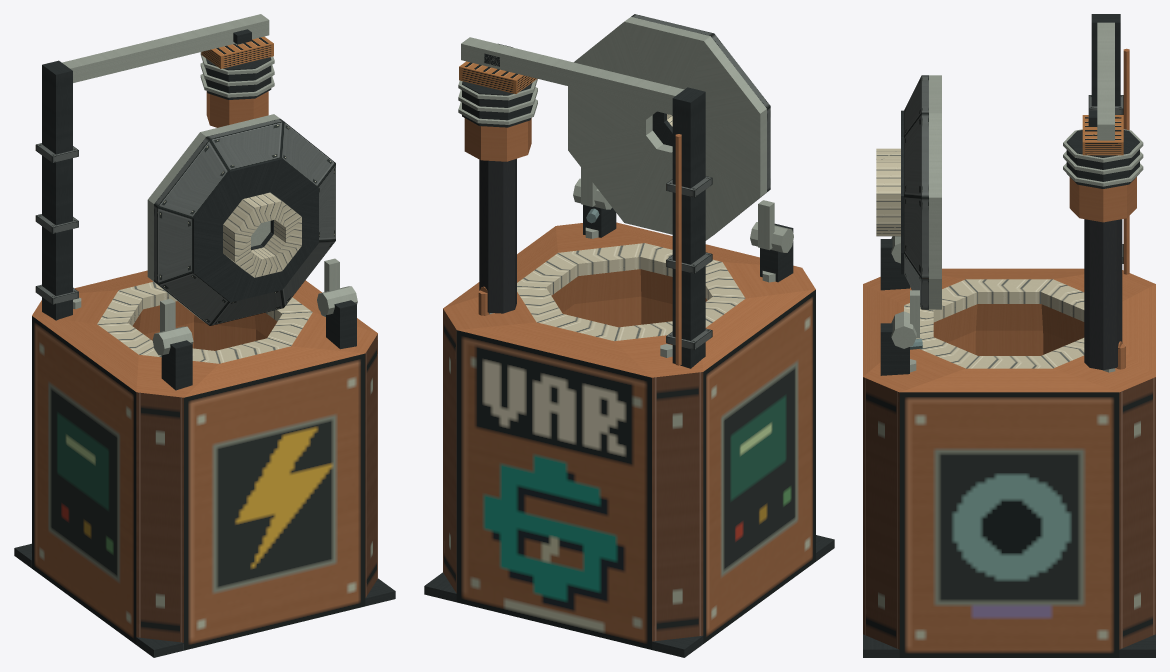
Rendered from small_var_open.obj.
3 renders of one model, left to right at view 1: azimuth 30°, elevation 25°; view 2: azimuth 150°, elevation 25°; view 3: azimuth 270°, elevation 25°, orthographic. The views are drawn at different scales.
Visible parts, largest first — view 1: contact_south, lid, contact_west, cut_corners, mast, shoulder, electrode, rim, hinge, lining, sole_edge; view 2: contact_north, contact_west, lid, cut_corners, shoulder, mast, electrode, rim, lining, hinge, sole_edge; view 3: contact_east, cut_corners, shoulder, electrode, lid, rim, lining, mast, hinge, sole_edge.
Part boxes in pixels (left/top/right/bottom): contact_south: left=184, top=353, right=365, bottom=650; lid: left=147, top=114, right=339, bottom=331; contact_west: left=32, top=316, right=136, bottom=644; cut_corners: left=136, top=334, right=377, bottom=642; mast: left=35, top=14, right=269, bottom=320; shoulder: left=32, top=270, right=377, bottom=397; electrode: left=200, top=36, right=274, bottom=127; rim: left=97, top=281, right=312, bottom=363; hinge: left=152, top=286, right=357, bottom=390; lining: left=132, top=301, right=277, bottom=350; sole_edge: left=14, top=543, right=395, bottom=657; contact_north: left=456, top=330, right=651, bottom=649; contact_west: left=703, top=289, right=815, bottom=643; lid: left=568, top=14, right=774, bottom=250; cut_corners: left=443, top=309, right=703, bottom=641; shoulder: left=443, top=222, right=815, bottom=377; mast: left=461, top=37, right=712, bottom=368; electrode: left=458, top=61, right=537, bottom=313; rim: left=517, top=243, right=745, bottom=341; lining: left=551, top=269, right=707, bottom=327; hinge: left=573, top=178, right=793, bottom=282; sole_edge: left=424, top=535, right=834, bottom=657; contact_east: left=899, top=392, right=1119, bottom=657; cut_corners: left=863, top=377, right=1155, bottom=649; shoulder: left=863, top=268, right=1155, bottom=392; electrode: left=1063, top=115, right=1143, bottom=370; lid: left=876, top=75, right=941, bottom=338; rim: left=904, top=279, right=1084, bottom=368; lining: left=933, top=304, right=1084, bottom=355; mast: left=1088, top=14, right=1129, bottom=274; hinge: left=880, top=236, right=916, bottom=375; sole_edge: left=863, top=634, right=1155, bottom=657.
Bounding box in the file's own units: 1 × 1.98 × 1.
Materials: 15 (15 with a texture image).
